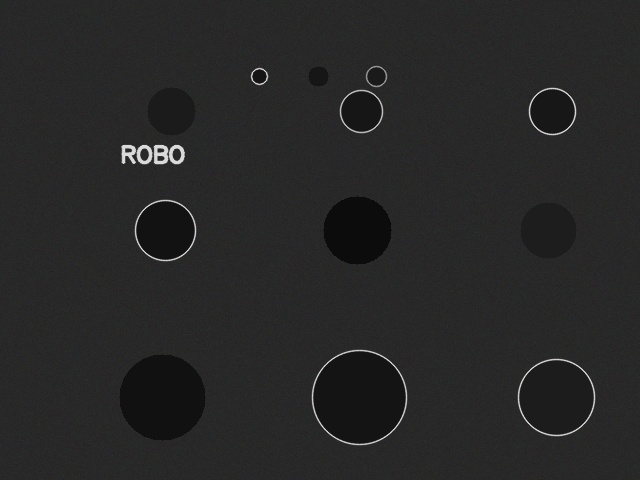hole: (312, 350, 406, 444), (119, 354, 205, 440), (518, 359, 594, 435), (323, 196, 391, 264), (135, 200, 195, 260), (520, 202, 576, 258), (147, 87, 195, 135), (529, 88, 575, 134), (340, 90, 382, 132), (308, 66, 328, 86), (366, 66, 386, 86), (251, 68, 267, 84)
